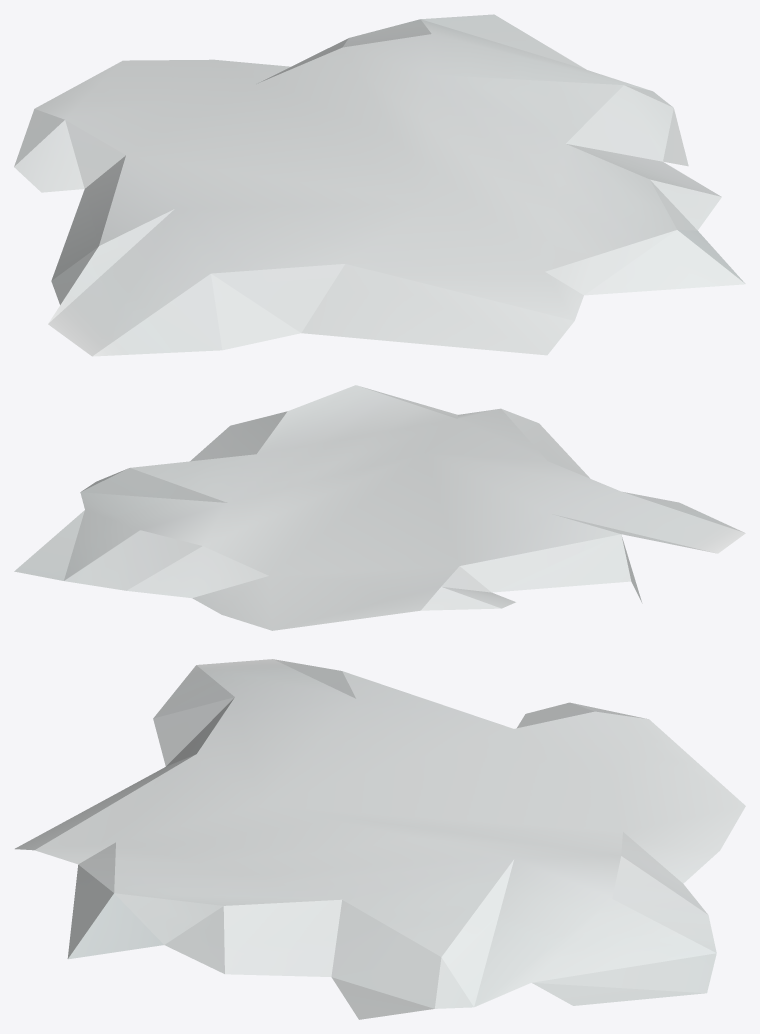
The model's file is Terrain_Snow_2.fbx.
3 views of the same model, one above another, from view 1: azimuth 30°, elevation 25°; view 2: azimuth 150°, elevation 25°; view 3: azimuth 270°, elevation 25° (orthographic). The views are drawn at different scales.
Parts seen in each view (by area): view 1: terrain_wall_snow_402_LOD1; view 2: terrain_wall_snow_402_LOD1; view 3: terrain_wall_snow_402_LOD1.
Part boxes in pixels (x1,y1,x2,y2): terrain_wall_snow_402_LOD1: [14, 14, 745, 356]; terrain_wall_snow_402_LOD1: [14, 385, 745, 630]; terrain_wall_snow_402_LOD1: [15, 659, 745, 1019].
Size of the model in its own units: 1992 by 253 by 1858.
Materials: 1 (1 with a texture image).
